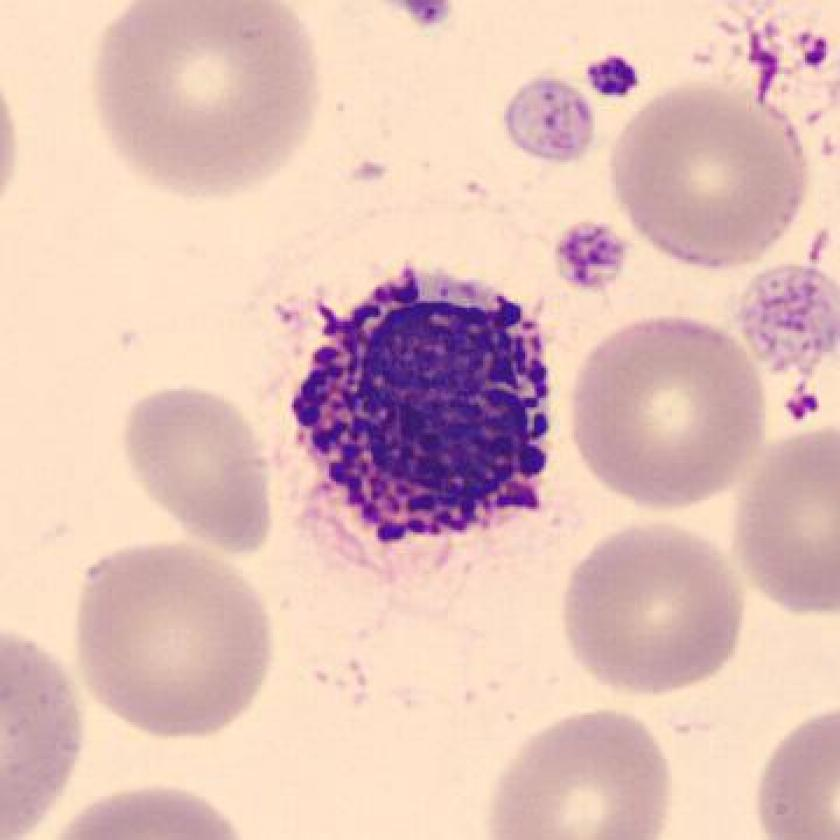basophil: (297, 265, 561, 559)
